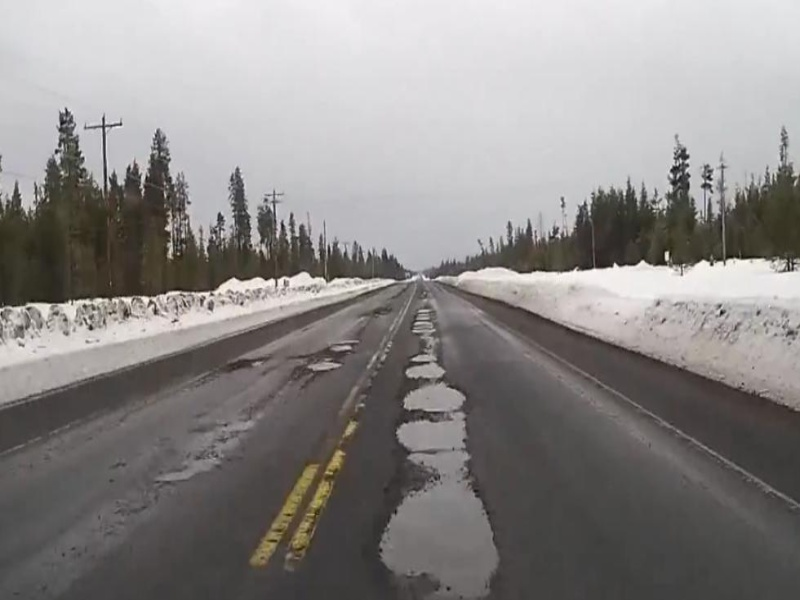pothole: (366, 478, 505, 600), (394, 415, 473, 451), (398, 379, 471, 412), (397, 451, 475, 478), (402, 360, 450, 378), (304, 358, 343, 371), (407, 350, 443, 363), (326, 342, 355, 354)
